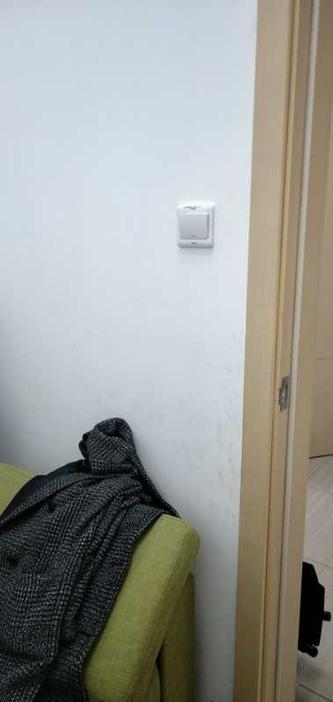switch: (175, 205, 212, 241)
